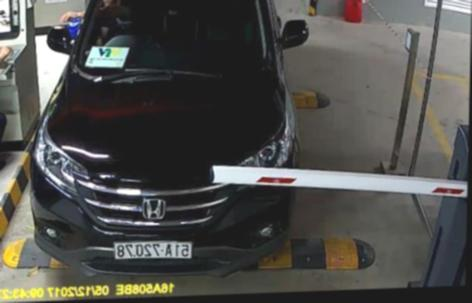License_Plate: (110, 232, 197, 265)
